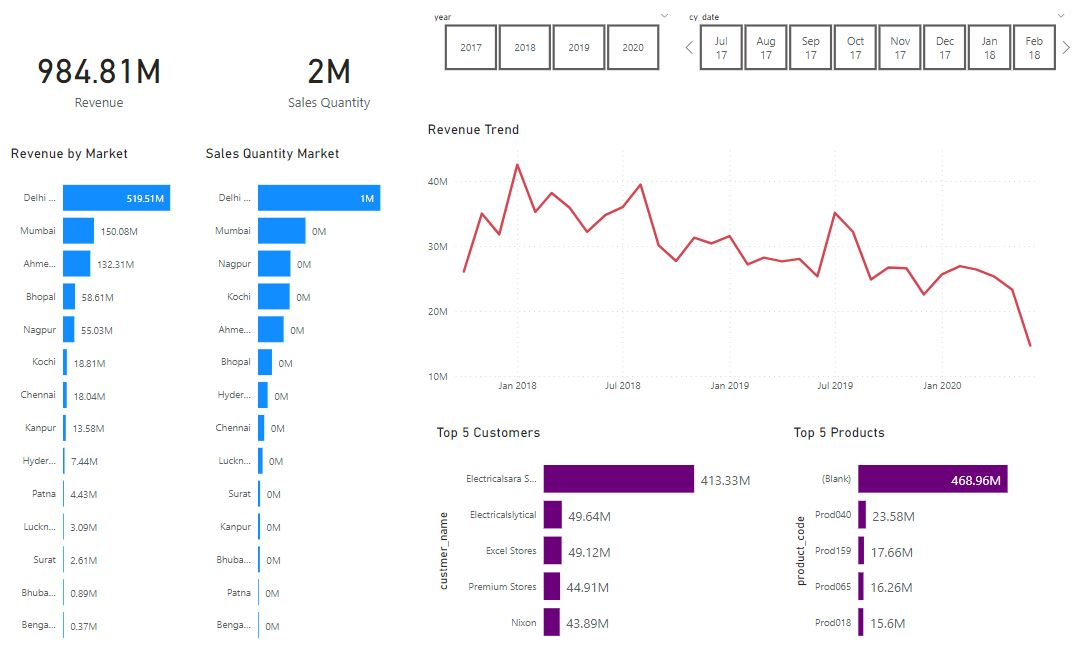

The dashboard page shown, as its layout file describes it:
{"tool":"powerbi","page":{"name":"Page 1","canvas":[1350,850],"ordinal":0},"visuals":[{"type":"card","fields":{"Values":["Base Measures.Revenue"]},"box":[24.3,25.3,226,168.9],"z":0},{"type":"card","fields":{"Values":["Base Measures.Sales Quantity"]},"box":[303,25.3,231.2,168.9],"z":1000},{"type":"barChart","title":"Revenue by Market","fields":{"Y":["Base Measures.Revenue"],"Category":["sales markets.markets_name"]},"box":[24.3,194.3,226,625.1],"z":2000},{"type":"barChart","title":"Sales Quantity Market","fields":{"Y":["Base Measures.Sales Quantity"],"Category":["sales markets.markets_name"]},"box":[261.9,194.3,226,625.1],"z":3000},{"type":"slicer","fields":{"Values":["sales date.year"]},"box":[534.3,25.3,312.5,84.5],"z":4000},{"type":"slicer","fields":{"Values":["sales date.cy_date"]},"box":[846.8,25.3,485.7,84.5],"z":5000},{"type":"barChart","title":"Top 5 Customers","fields":{"Category":["sales customers.custmer_name"],"Y":["Base Measures.Revenue"]},"box":[545.9,536.4,408.6,283],"z":6000},{"type":"barChart","title":"Top 5 Products","fields":{"Category":["sales products.product_code"],"Y":["Base Measures.Revenue"]},"box":[983,536.4,323.1,283],"z":7000},{"type":"lineChart","title":"Revenue Trend","fields":{"Y":["Base Measures.Revenue"],"Category":["sales date.cy_date"]},"box":[534.3,164.7,771.9,342.1],"z":8000}]}

Visuals, with their boxes in screenshot pixels (x1, y1, x2, y2), scaled from the page's 1350x850 canvas onto the 1075x664 screenshot:
card - Base Measures.Revenue: x1=19 y1=20 x2=199 y2=152
card - Base Measures.Sales Quantity: x1=241 y1=20 x2=425 y2=152
"Revenue by Market" barChart: x1=19 y1=152 x2=199 y2=640
"Sales Quantity Market" barChart: x1=209 y1=152 x2=389 y2=640
slicer - sales date.year: x1=425 y1=20 x2=674 y2=86
slicer - sales date.cy_date: x1=674 y1=20 x2=1061 y2=86
"Top 5 Customers" barChart: x1=435 y1=419 x2=760 y2=640
"Top 5 Products" barChart: x1=783 y1=419 x2=1040 y2=640
"Revenue Trend" lineChart: x1=425 y1=129 x2=1040 y2=396
